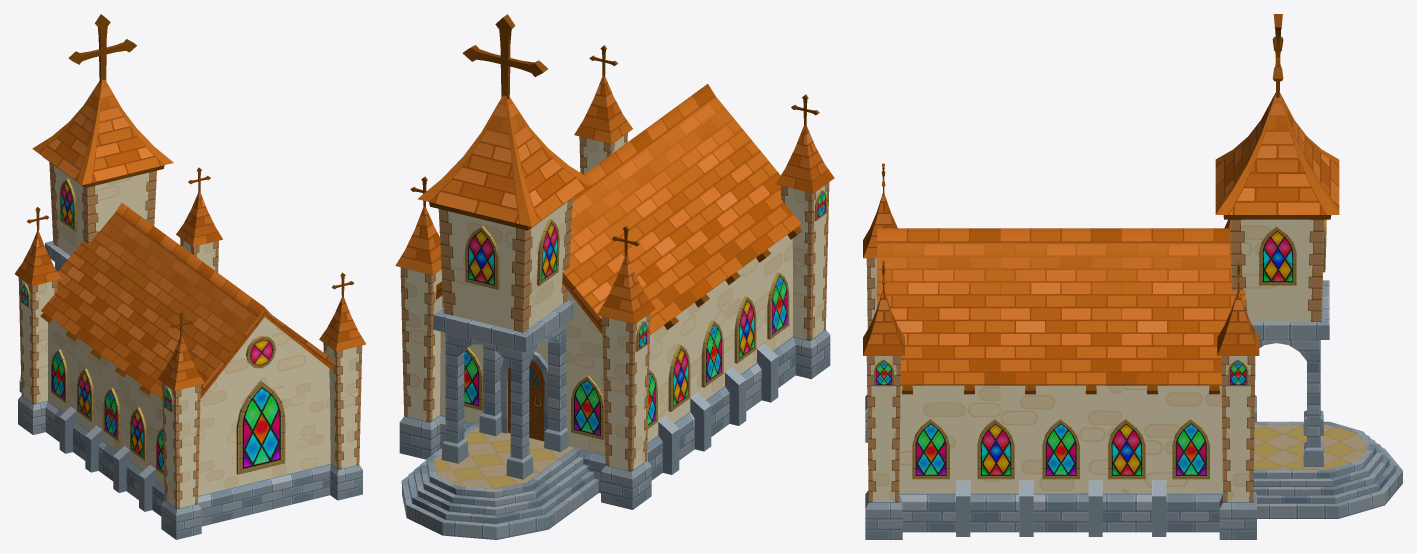
Rendered from HOS0110016.fbx.
The picture shows the model from 3 angles, left to right: view 1: azimuth 30°, elevation 25°; view 2: azimuth 150°, elevation 25°; view 3: azimuth 270°, elevation 25°; orthographic projection. The views are drawn at different scales.
Parts seen in each view (by area): view 1: smHOS0110016; view 2: smHOS0110016; view 3: smHOS0110016.
Boxes of the visible parts, x1,y1,x2,y2 form: smHOS0110016: [14, 14, 365, 539]; smHOS0110016: [395, 14, 834, 539]; smHOS0110016: [863, 14, 1402, 539].
Size of what is drawn, in the model's own units: 898 by 1698 by 1769.
Materials: 1 (1 with a texture image).
